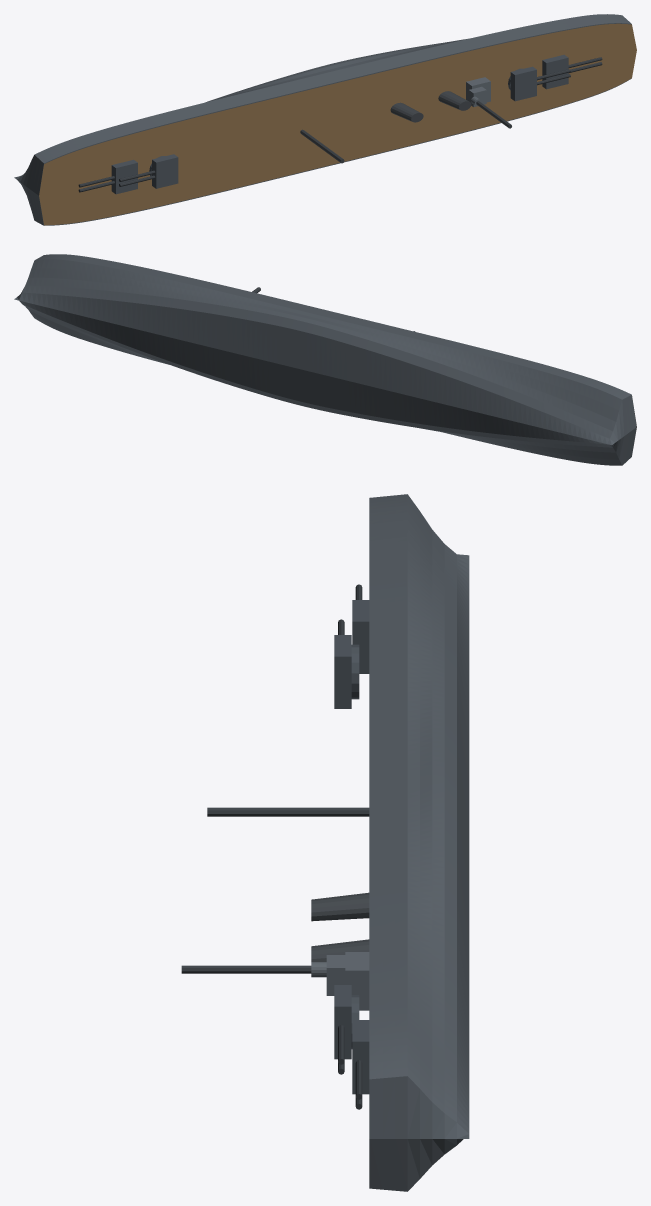
Rendered from 長門型_陸奥.obj.
The picture shows the model from 3 angles, top to bottom: view 1: azimuth 30°, elevation 25°; view 2: azimuth 150°, elevation 25°; view 3: azimuth 270°, elevation 25°; orthographic projection. The views are drawn at different scales.
Bounding box in the file's own units: 214 × 29.7 × 44.47.
